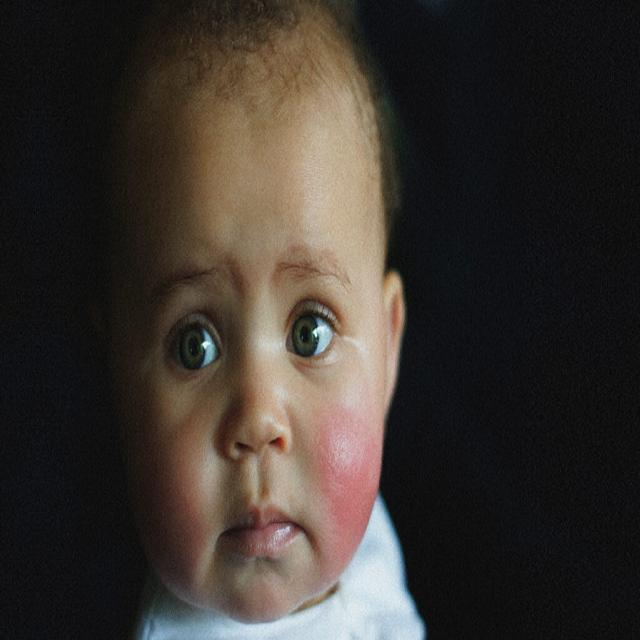non-dog: (26, 1, 430, 640)
